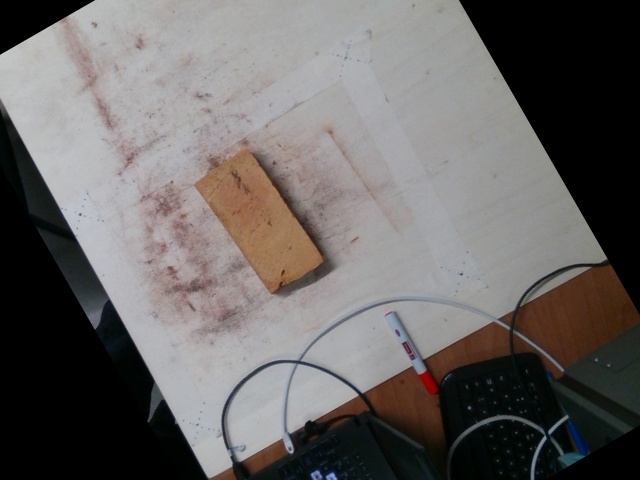brick: (195, 151, 322, 296)
